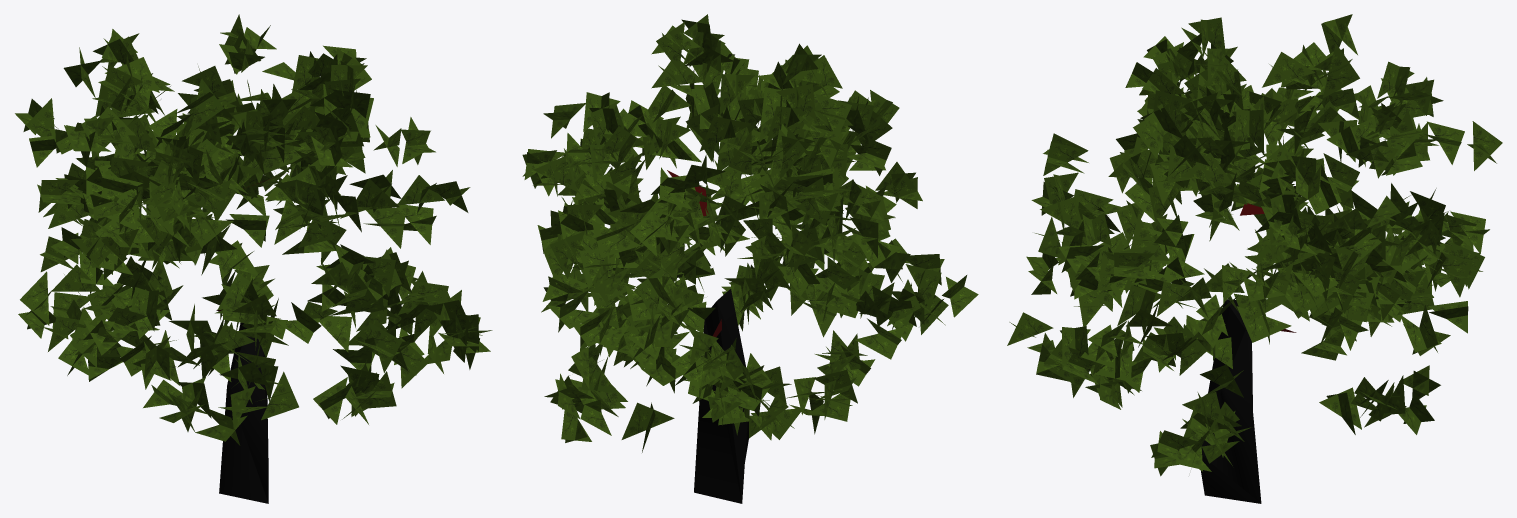
Rendered from oak7 lod4.FBX.
The picture shows the model from 3 angles, left to right: view 1: azimuth 30°, elevation 25°; view 2: azimuth 150°, elevation 25°; view 3: azimuth 270°, elevation 25°; orthographic projection.
Parts seen in each view (by area): view 1: oak7_LOD4; view 2: oak7_LOD4; view 3: oak7_LOD4.
Boxes of the visible parts, x1,y1,x2,y2 form: oak7_LOD4: (15, 14, 492, 503); oak7_LOD4: (522, 14, 978, 503); oak7_LOD4: (1007, 14, 1502, 503).
Bounding box in the file's own units: 191042 × 201435 × 200932.
